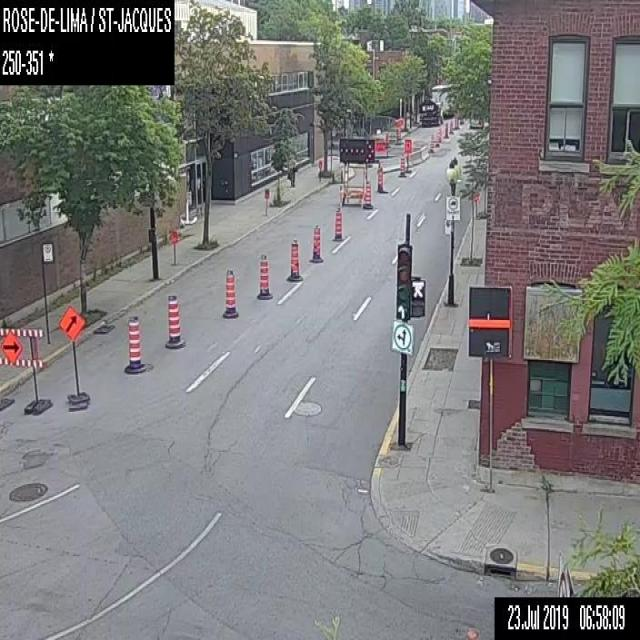construction: (337, 140, 376, 207), (0, 327, 42, 368), (124, 314, 146, 374), (164, 292, 183, 347), (58, 303, 86, 340), (221, 267, 237, 317), (285, 238, 302, 282), (257, 253, 271, 299), (310, 222, 322, 262), (331, 204, 343, 240), (403, 138, 412, 172), (393, 114, 402, 142), (376, 165, 385, 192), (169, 232, 176, 264), (363, 177, 370, 208), (263, 188, 268, 214), (399, 155, 405, 173), (317, 157, 322, 176), (384, 132, 388, 154), (429, 133, 433, 151), (435, 131, 439, 145), (0, 348, 4, 357), (0, 336, 3, 341)
